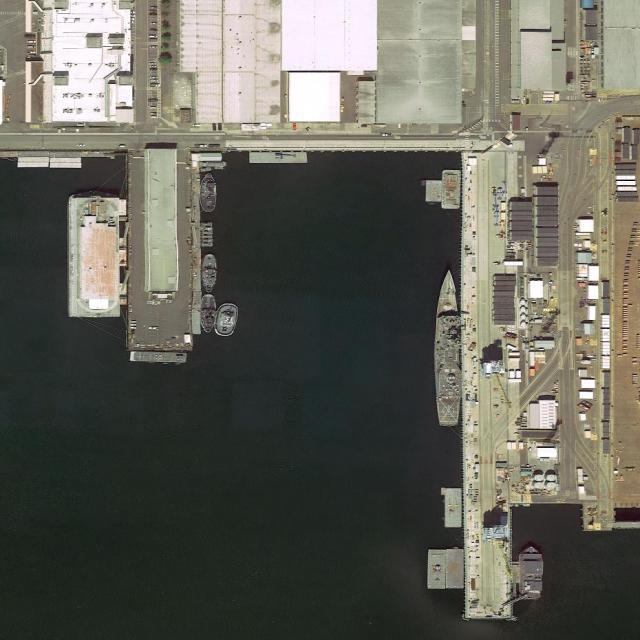Cargo: (67, 192, 121, 318)
Dock: (462, 150, 518, 618), (126, 149, 201, 365)
Frigate: (436, 270, 460, 425)
Hovercraft: (213, 301, 239, 338)
Other Warship: (201, 292, 216, 332), (203, 252, 218, 291), (202, 174, 217, 213)
